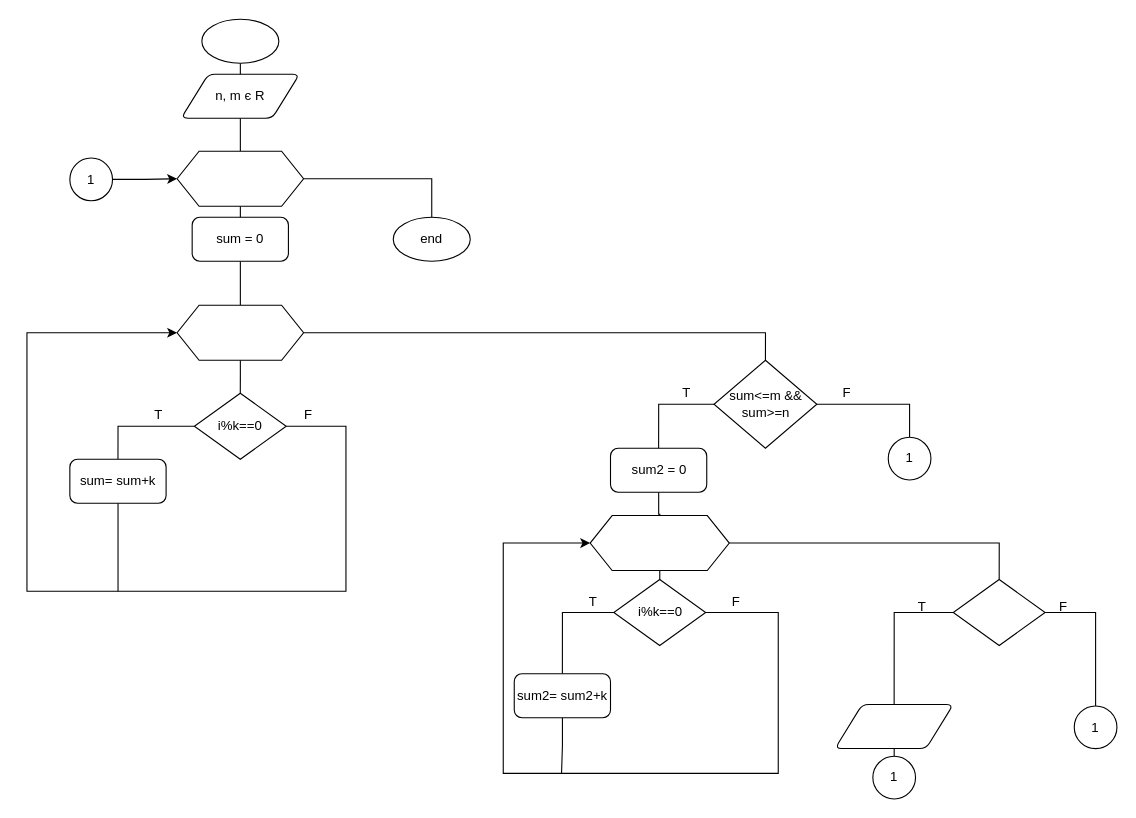
This 1136x818 diagram has some shape labels left out. The shapes that lost their labels are listed below. From the top down, each one's box as (x1, y1, x2, y2) in pixels, then its label:
(201, 18, 279, 63): start
(176, 150, 304, 206): int i =n; i<=m; i++
(176, 304, 304, 360): int k = 1; k<i; k++
(589, 514, 729, 571): int k = 1; k<sum; k++
(952, 578, 1045, 645): sum2==i
(834, 703, 953, 749): i, sum
